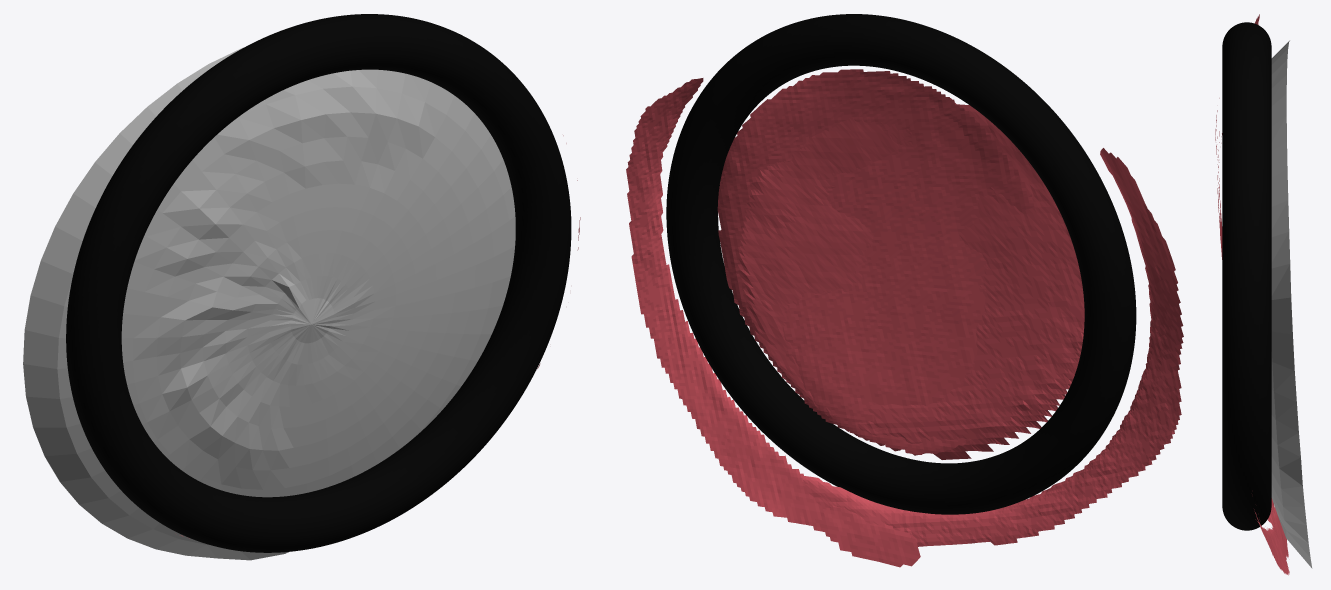
File: G06_ICP_FULL_HERO.glb
3 views of the same model, side by side, from view 1: azimuth 30°, elevation 25°; view 2: azimuth 150°, elevation 25°; view 3: azimuth 270°, elevation 25° (orthographic). The views are drawn at different scales.
Visible parts, largest first — view 1: Body_A2, Ring; view 2: 004_G06_v004_raw00744, Ring, 004_G06_v004_raw00046; view 3: Ring, Body_A2, 004_G06_v004_raw00744, 004_G06_v004_raw00046.
Part boxes in pixels (x1=…): Body_A2: x1=23, y1=47, x2=515, y2=560; Ring: x1=66, y1=14, x2=571, y2=552; 004_G06_v004_raw00744: x1=626, y1=69, x2=1034, y2=567; Ring: x1=666, y1=14, x2=1136, y2=514; 004_G06_v004_raw00046: x1=737, y1=98, x2=1183, y2=546; Ring: x1=1222, y1=22, x2=1271, y2=530; Body_A2: x1=1271, y1=40, x2=1312, y2=568; 004_G06_v004_raw00744: x1=1217, y1=131, x2=1289, y2=575; 004_G06_v004_raw00046: x1=1215, y1=14, x2=1277, y2=536.
Bounding box in the file's own units: 0.0147 × 0.0134 × 0.00256.
